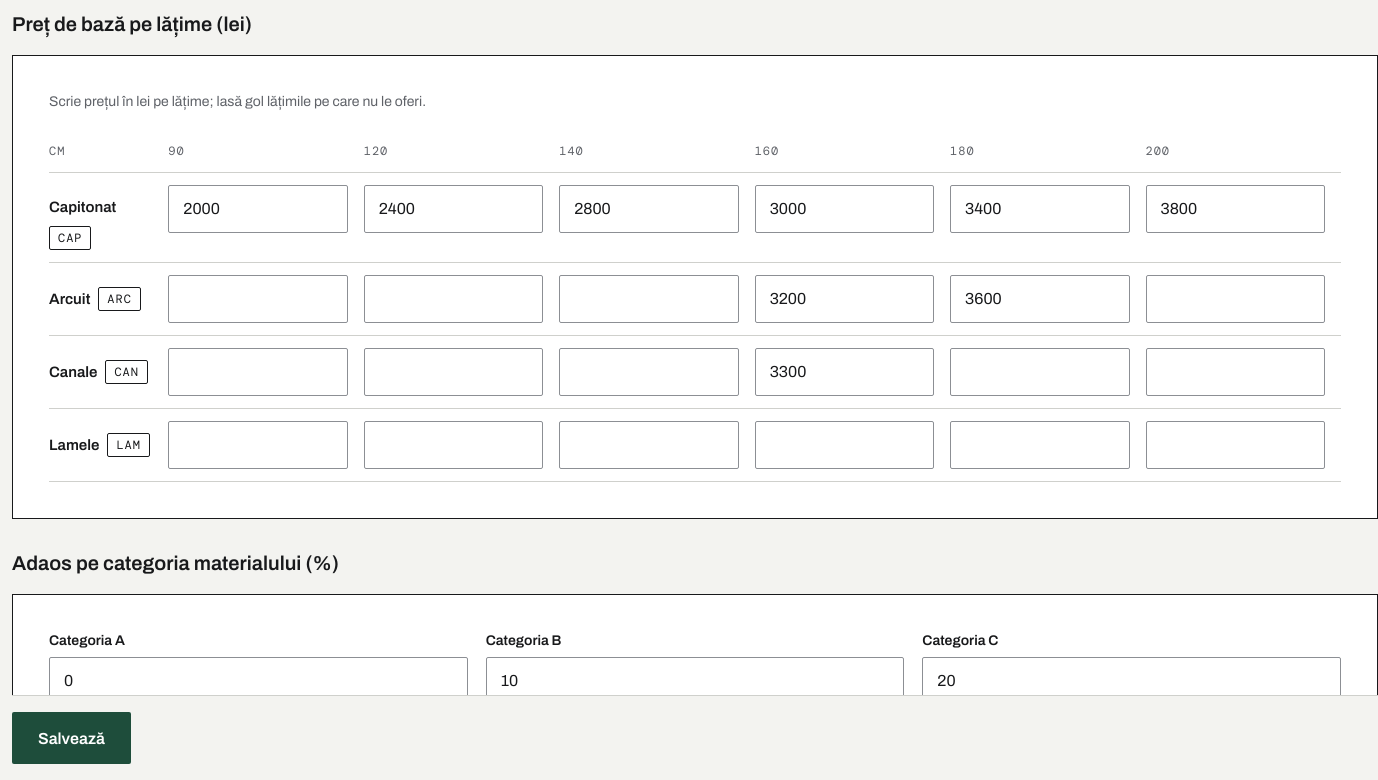
Scenario: PricingForm › submits every field to the action and shows the saved notice, keeping the typed values
The image size is (1378, 780).
Type "4000" into the field named "Arcuit, 200 cm" at x=1235, y=299, box top-left (1146, 275), bottom-right (1325, 323)
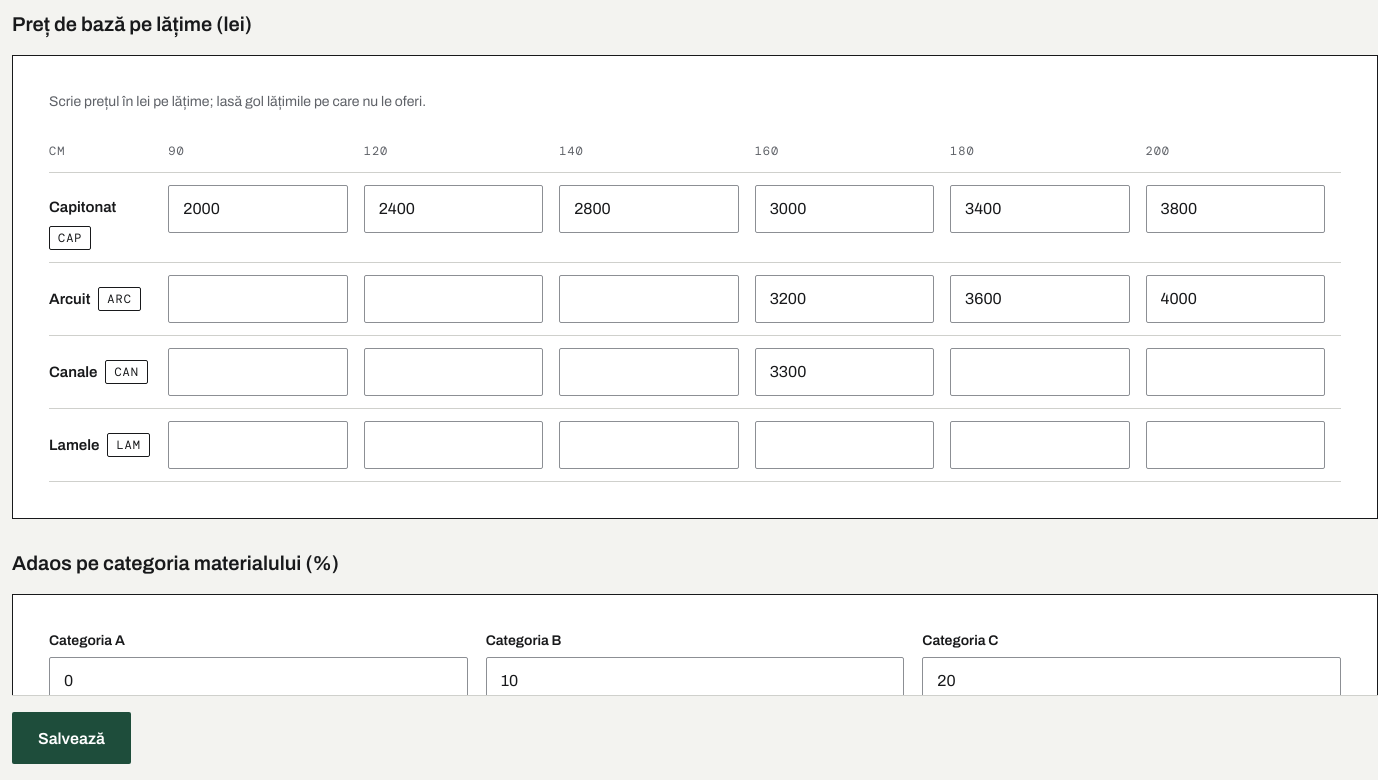
Replace the text in the field labelled "Categoria B" with "12.5" at x=695, y=681, box top-left (486, 657), bottom-right (904, 705)
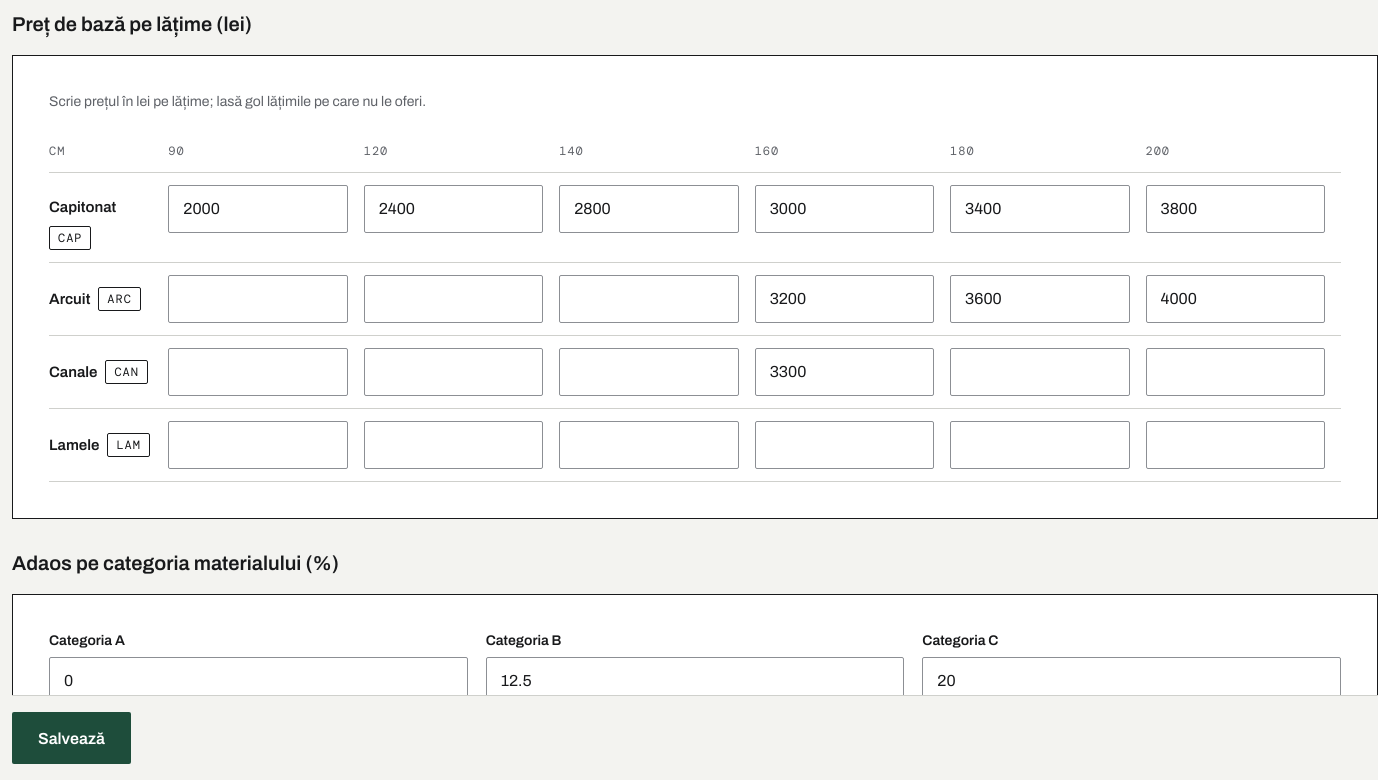
Click the button "Salvează" at x=72, y=738, box top-left (12, 712), bottom-right (131, 764)
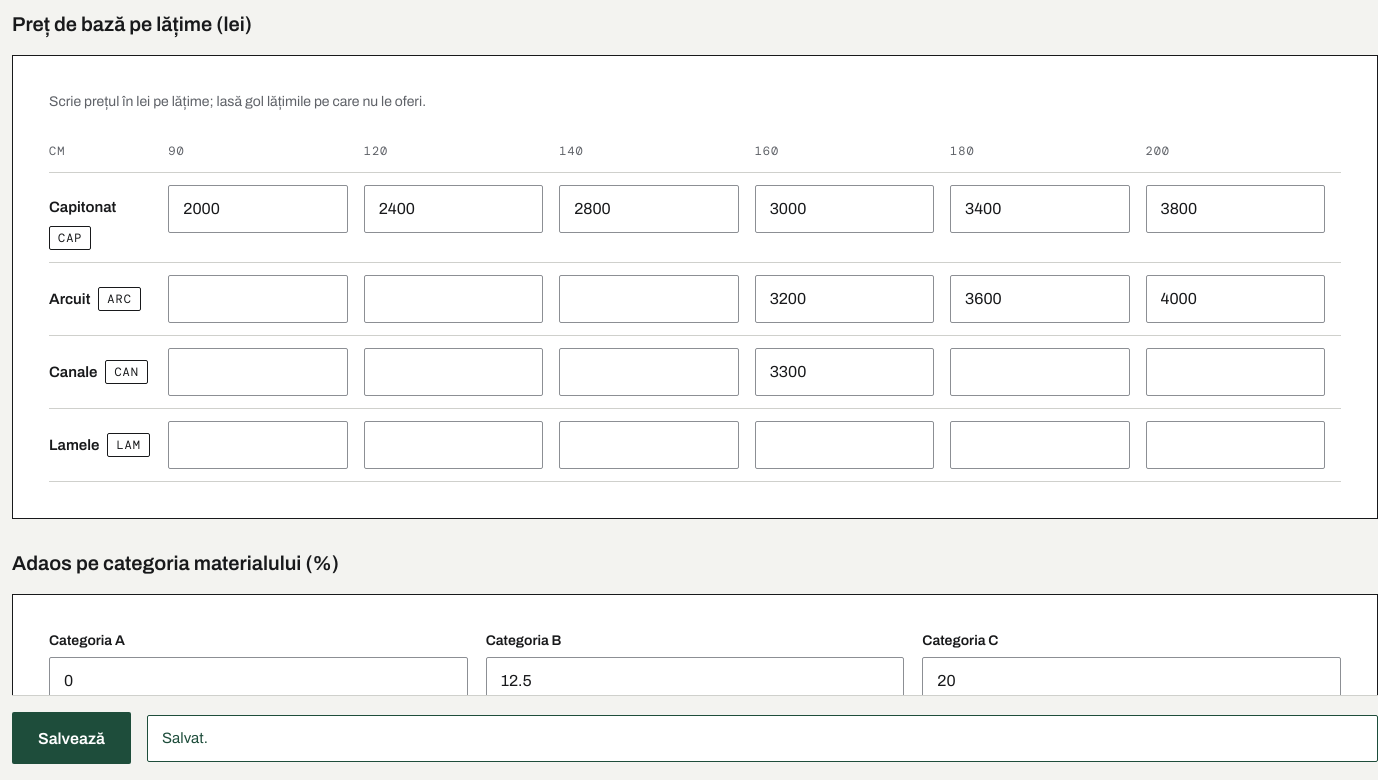
Result: the message reads "Salvat." at top-left (162, 730), bottom-right (208, 746)
